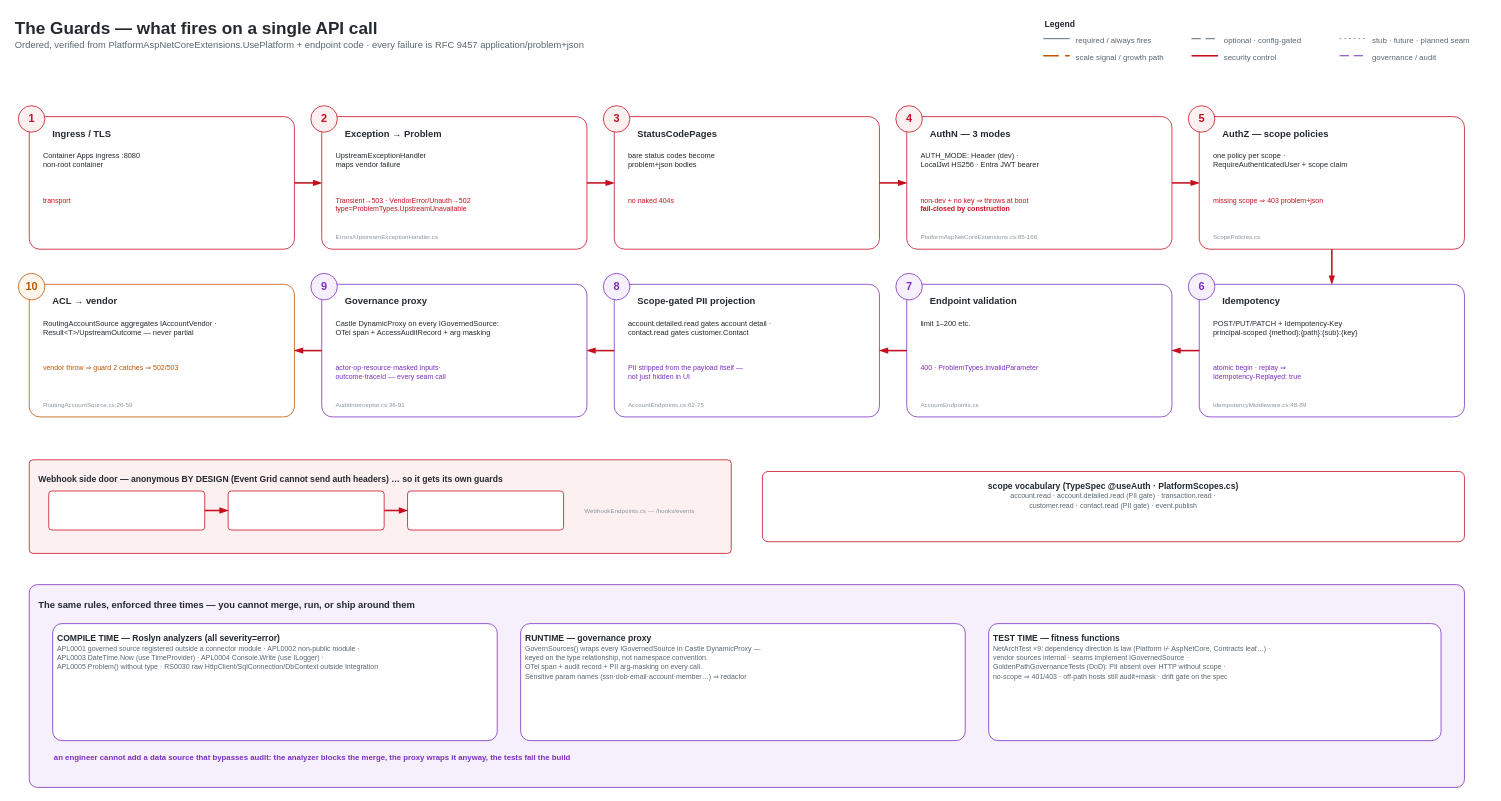
This 1501x801 diagram has some shape labels left out. Each missing label, with the centre of its shape:
"OPTIONS handshake CloudEvents abuse-protection" goes at [126,510].
"subject masking PII masked before audit log" goes at [485,510].
"WEBHOOK_SECRET query-key check" goes at [305,510].
